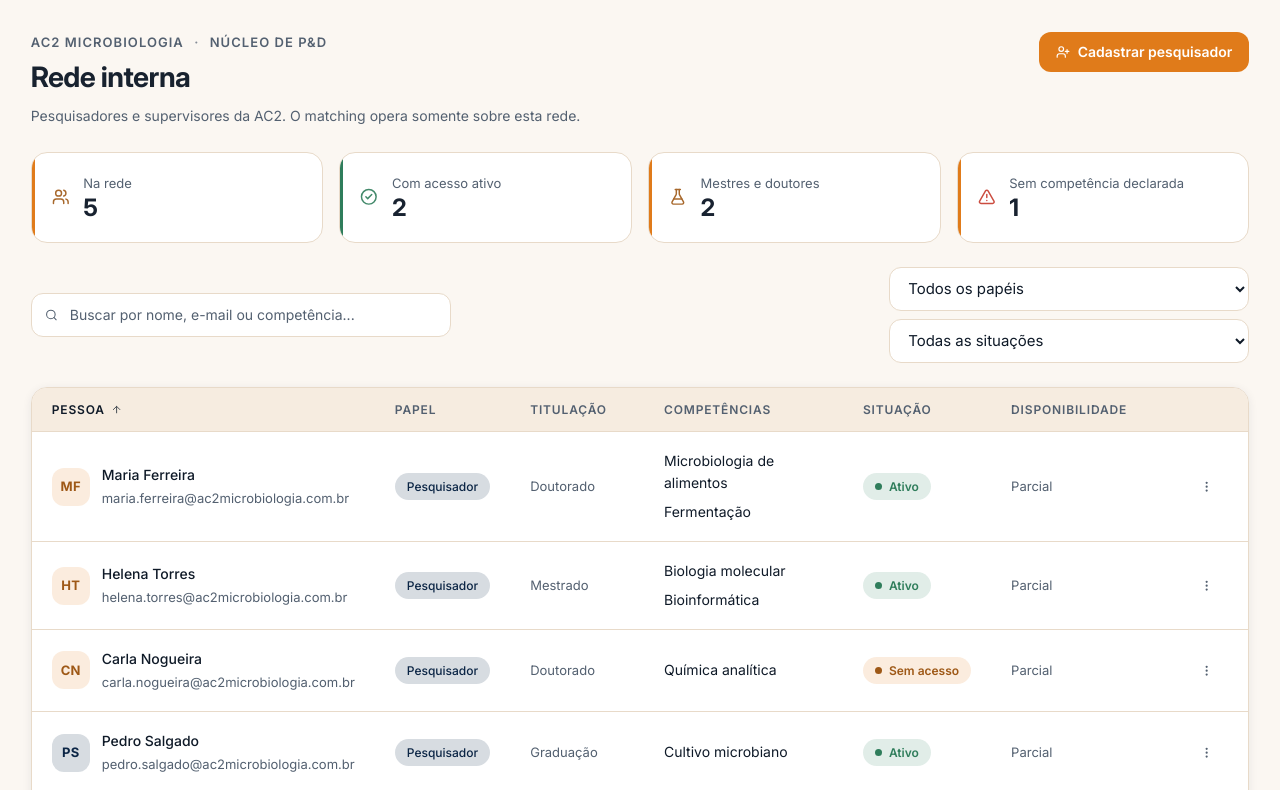
Scenario: RedePage › enquanto o convite sai, avisa e não aceita um segundo clique
Expected: the text "Maria Ferreira" is shown, [102, 466, 195, 483]
Click the button named "ações para carla nogueira": (1206, 670) [1184, 648, 1228, 692]
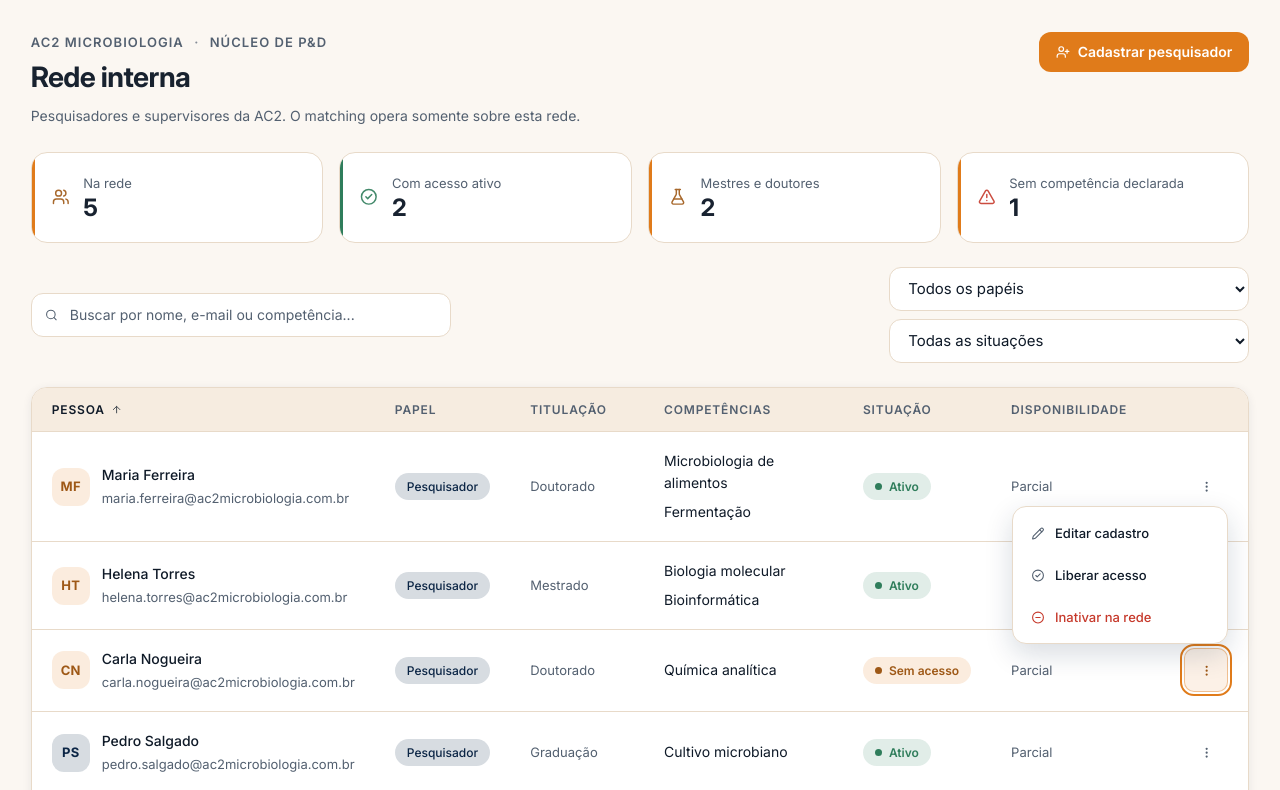
Click the menu item "Liberar acesso": (1120, 576) [1019, 556, 1221, 596]
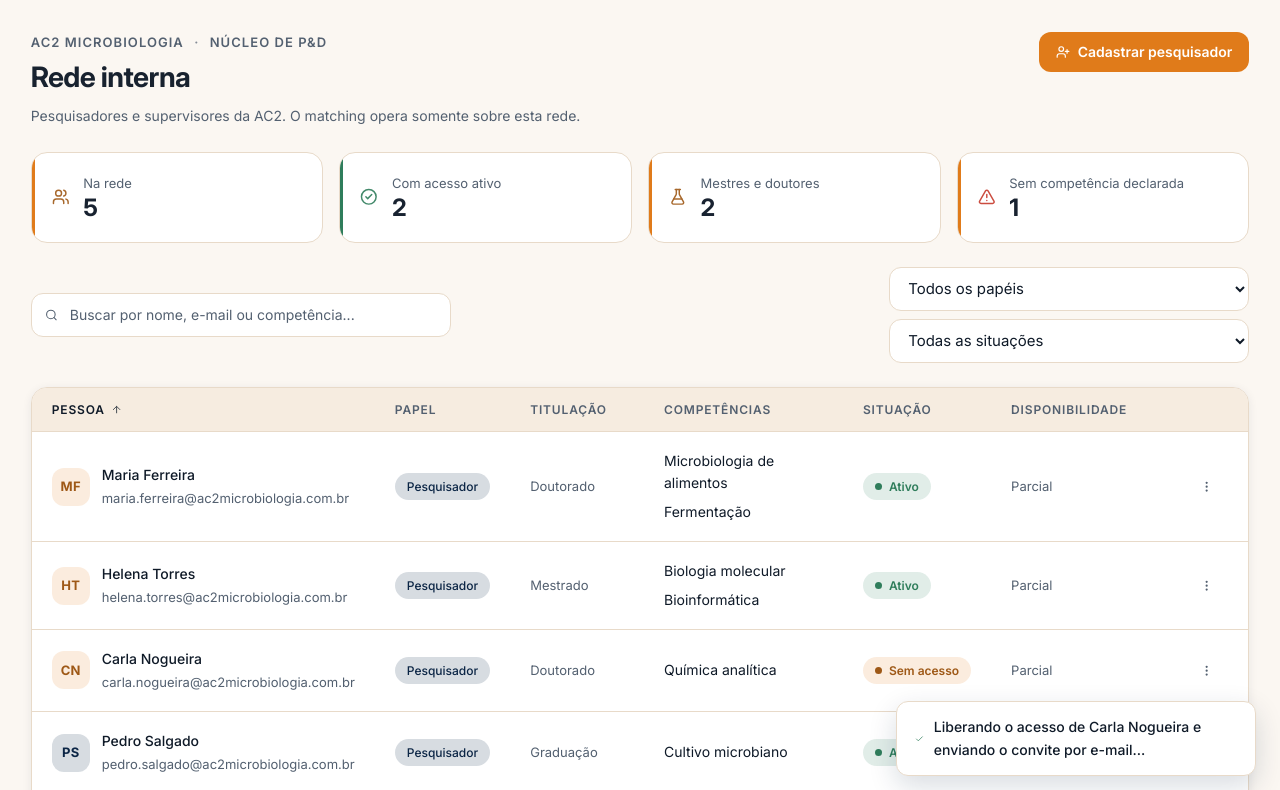
Result: the text "Liberando o acesso de Carla Nogueira e enviando o convite por e-mail..." is shown at [896, 701, 1256, 776]
Click the button named "ações para carla nogueira": (1206, 670) [1184, 648, 1228, 692]
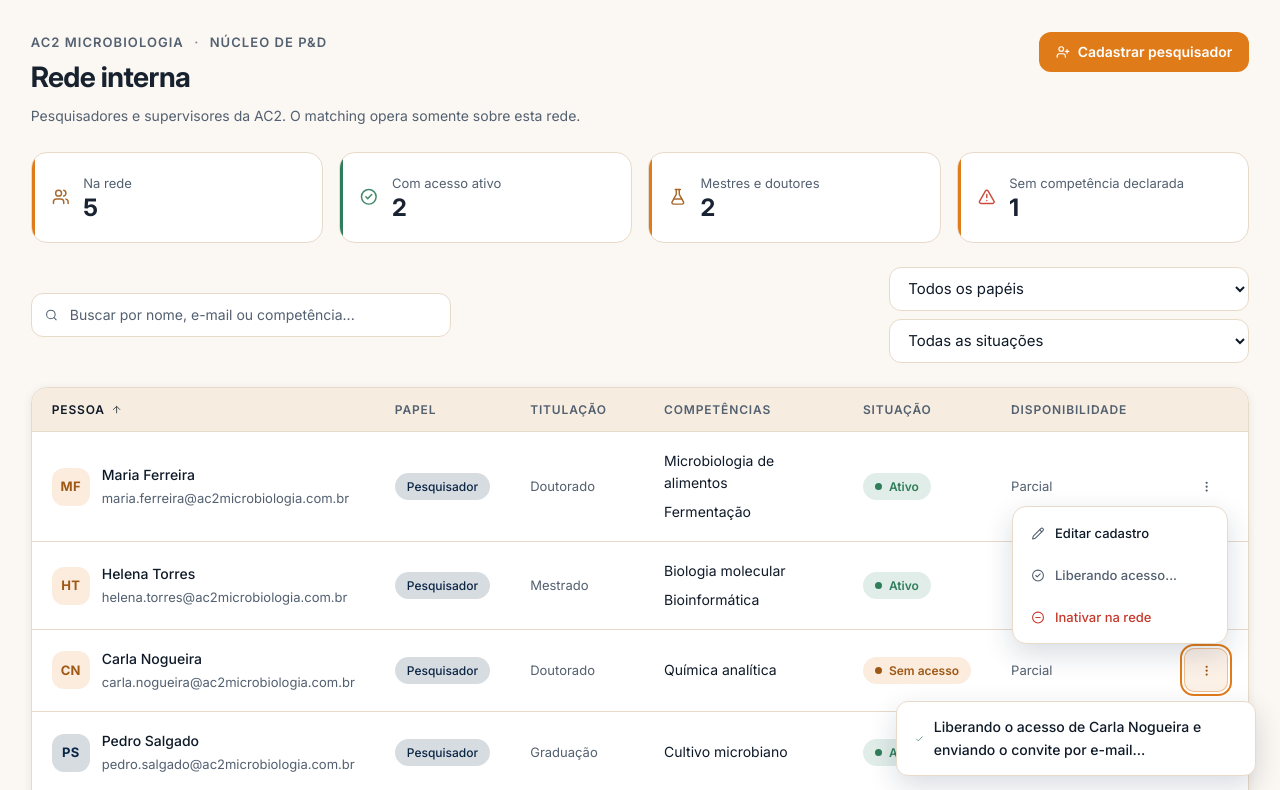
Result: the menu item "Liberando acesso..." is disabled
Click the menu item "Liberando acesso...": (1120, 576) [1019, 556, 1221, 596]
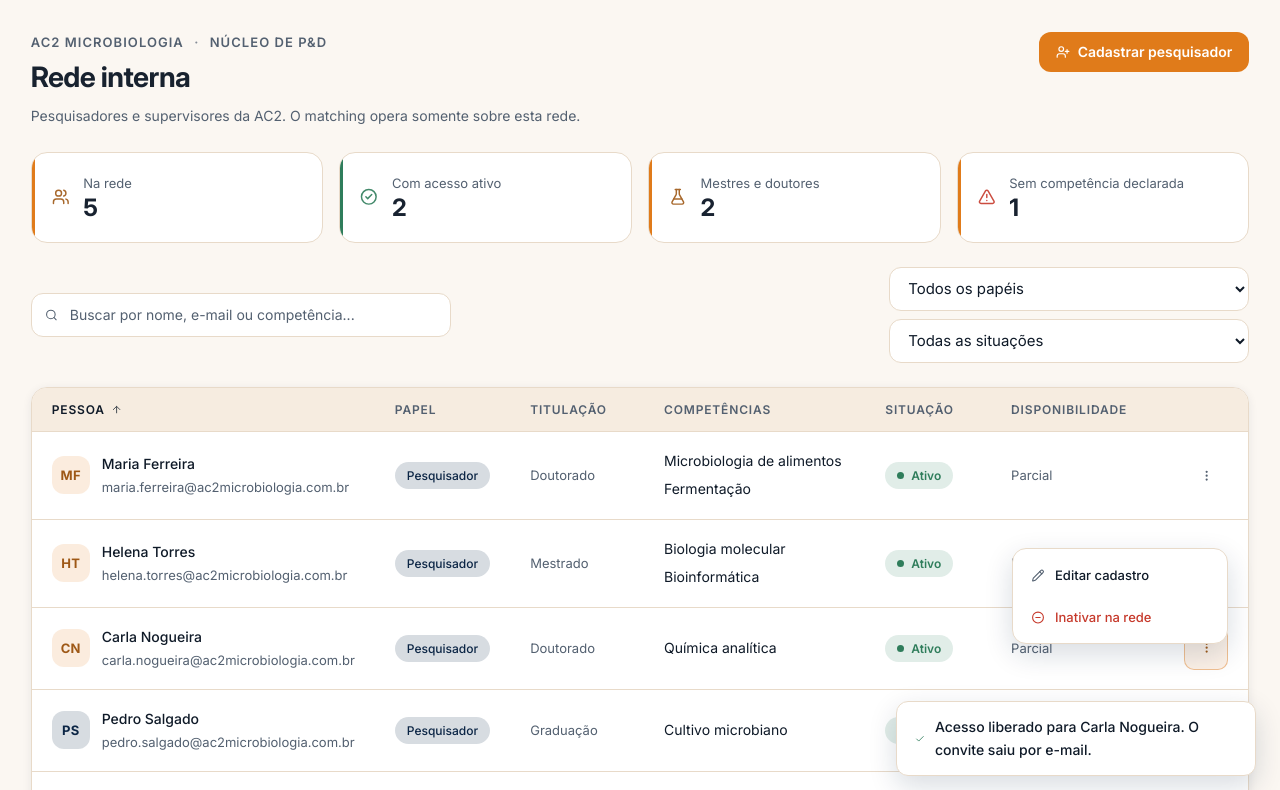
Result: the text "Acesso liberado para Carla Nogueira. O convite saiu por e-mail." is shown at [896, 701, 1256, 776]
